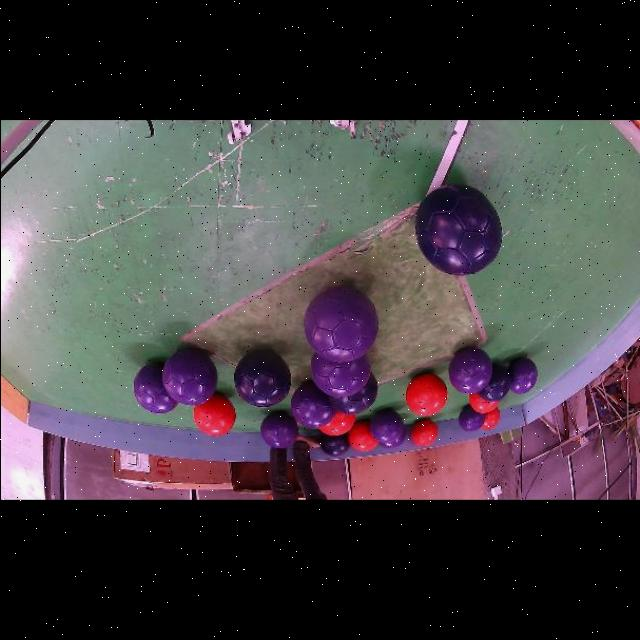B: (415, 184, 502, 275), (234, 351, 291, 407), (328, 373, 378, 414), (478, 364, 511, 402), (320, 434, 349, 456)
P: (303, 286, 378, 363), (162, 349, 217, 405), (311, 353, 370, 397), (290, 381, 336, 429), (133, 364, 177, 414), (448, 347, 492, 394), (259, 411, 298, 448), (369, 409, 404, 443), (507, 357, 538, 394), (459, 405, 485, 431), (379, 429, 407, 450)
R: (193, 394, 236, 436), (406, 374, 447, 417), (319, 411, 356, 436), (348, 421, 378, 451), (411, 419, 437, 446), (468, 393, 498, 413), (481, 407, 500, 430)
